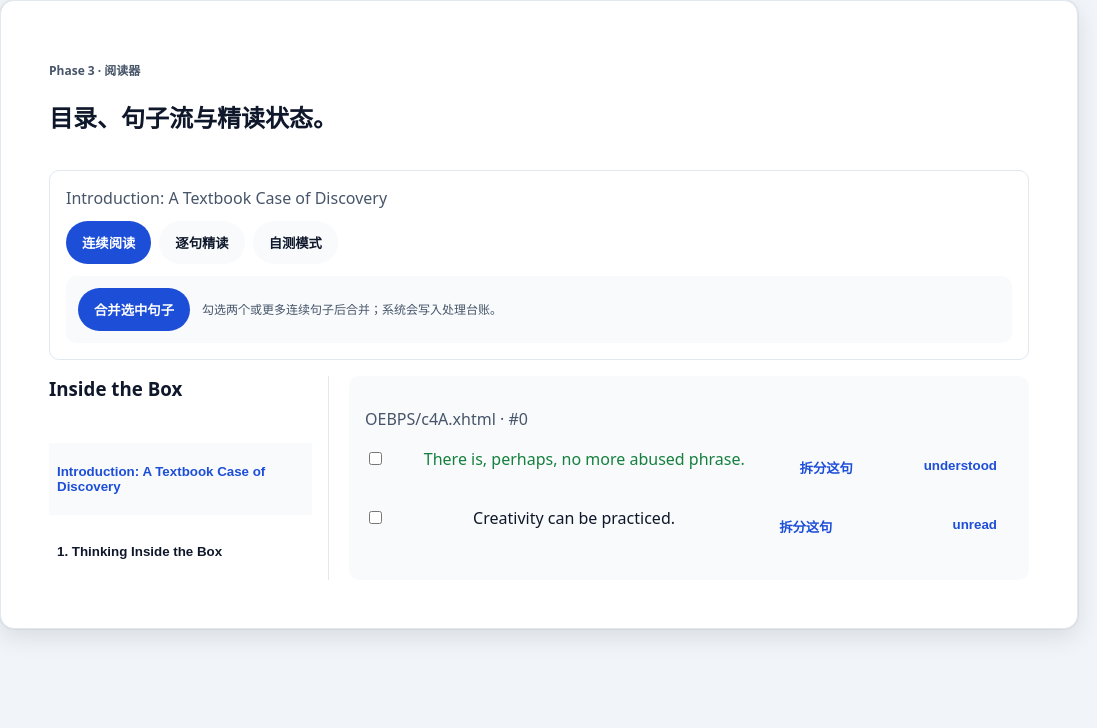
Test: ReaderPanel › selects two sentences and merges them
The image size is (1097, 728).
Step 1. Click the checkbox with test id "select-sentence-1001" → x=376, y=458, box [369, 452, 382, 465]
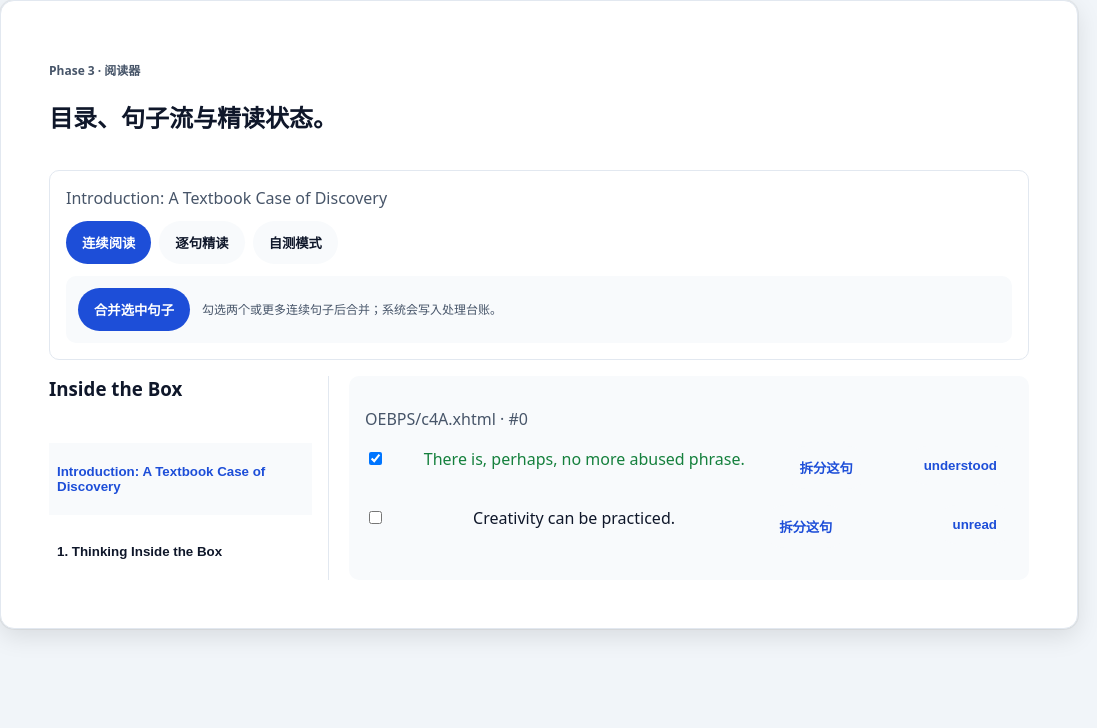
Step 2. Click the checkbox with test id "select-sentence-1002" → x=376, y=517, box [369, 511, 382, 524]
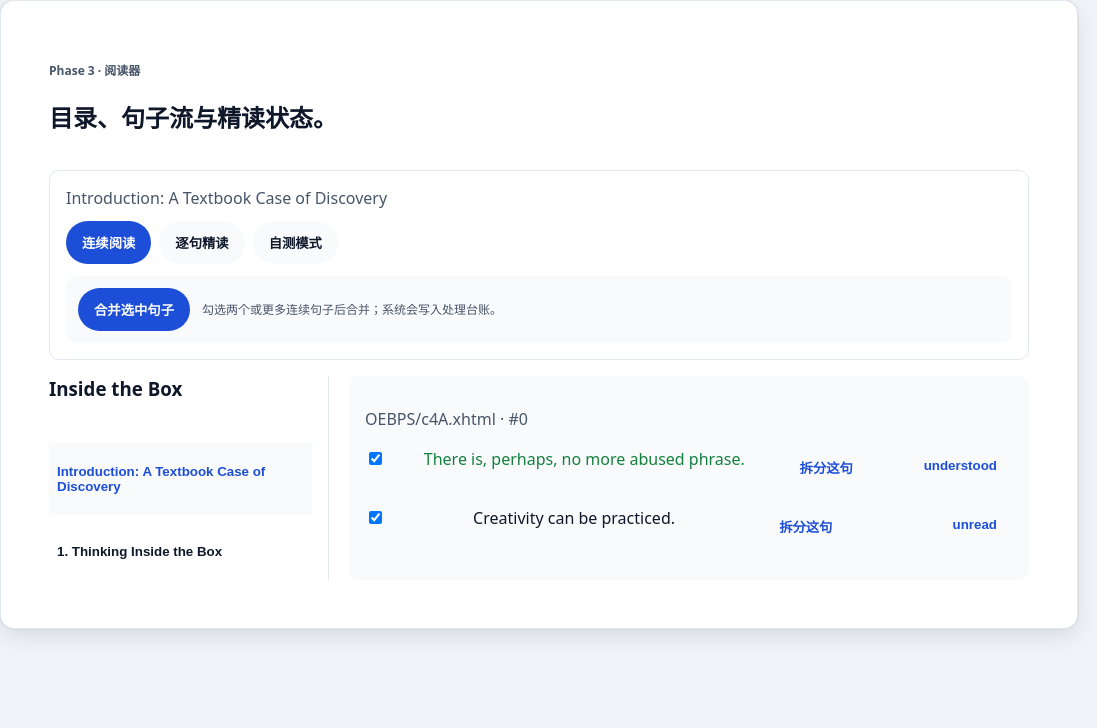
Step 3. Click the button with test id "merge-selected" → x=134, y=309, box [78, 288, 190, 331]
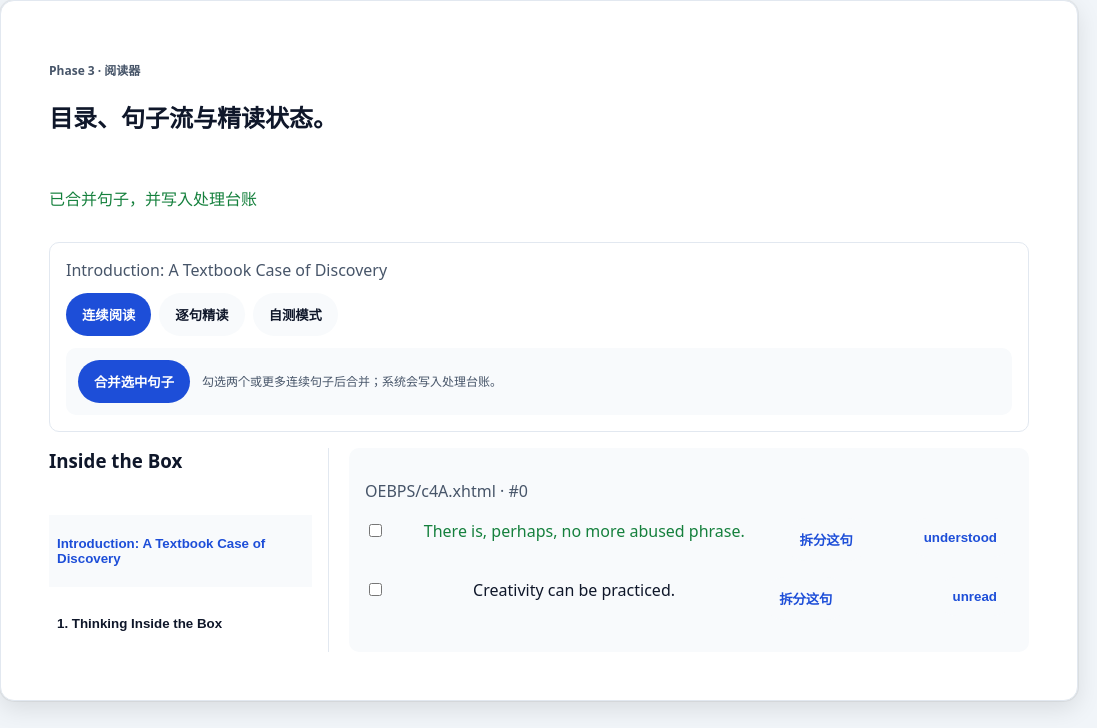
Check: the text "已合并句子，并写入处理台账" is shown, box [49, 188, 257, 210]
